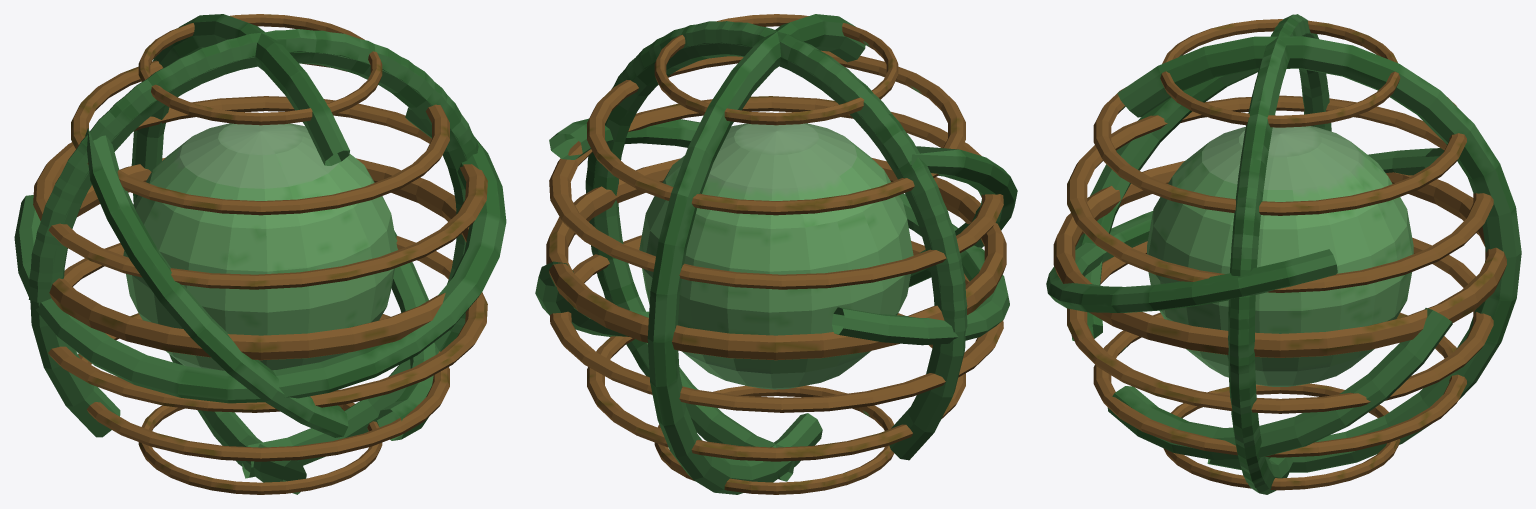
Rendered from NutritionItem.fbx.
3 views of the same model, side by side, from view 1: azimuth 30°, elevation 25°; view 2: azimuth 150°, elevation 25°; view 3: azimuth 270°, elevation 25° (orthographic).
Parts seen in each view (by area): view 1: sphere_1, torus_9, torus_8, torus_11, torus_6, torus_2, torus_1, torus, torus_5, torus_3, torus_4, torus_7 (+1 smaller); view 2: sphere_1, torus, torus_11, torus_1, torus_6, torus_2, torus_3, torus_5, torus_9, torus_4, torus_8, torus_7 (+1 smaller); view 3: sphere_1, torus, torus_1, torus_8, torus_2, torus_9, torus_5, torus_11, torus_6, torus_3, torus_4, torus_7 (+1 smaller).
Boxes of the visible parts, <box> form: sphere_1: <box>123,123,397,370</box>; torus_9: <box>14,107,506,403</box>; torus_8: <box>85,128,439,440</box>; torus_11: <box>29,29,478,437</box>; torus_6: <box>28,30,471,478</box>; torus_2: <box>33,96,487,289</box>; torus_1: <box>49,157,469,360</box>; torus: <box>131,14,349,494</box>; torus_5: <box>48,236,487,412</box>; torus_3: <box>71,60,449,215</box>; torus_4: <box>78,313,449,461</box>; torus_7: <box>138,14,382,125</box>; sphere_1: <box>639,123,913,389</box>; torus: <box>647,14,865,494</box>; torus_11: <box>587,21,967,460</box>; torus_1: <box>546,157,1006,360</box>; torus_6: <box>585,21,967,481</box>; torus_2: <box>549,96,1003,289</box>; torus_3: <box>587,50,965,215</box>; torus_5: <box>549,235,1003,412</box>; torus_9: <box>549,118,1009,345</box>; torus_4: <box>587,313,965,461</box>; torus_8: <box>535,146,1017,336</box>; torus_7: <box>654,14,898,125</box>; sphere_1: <box>1147,126,1413,386</box>; torus: <box>1117,36,1521,472</box>; torus_1: <box>1053,161,1506,357</box>; torus_8: <box>1071,38,1452,460</box>; torus_2: <box>1067,95,1493,292</box>; torus_9: <box>1046,148,1444,312</box>; torus_5: <box>1067,237,1493,413</box>; torus_11: <box>1228,14,1331,487</box>; torus_6: <box>1228,14,1331,494</box>; torus_3: <box>1093,87,1466,215</box>; torus_4: <box>1093,312,1466,457</box>; torus_7: <box>1160,19,1400,127</box>.
Size of the model in its own units: 223 by 226 by 223.
Materials: 6 (6 with a texture image).
